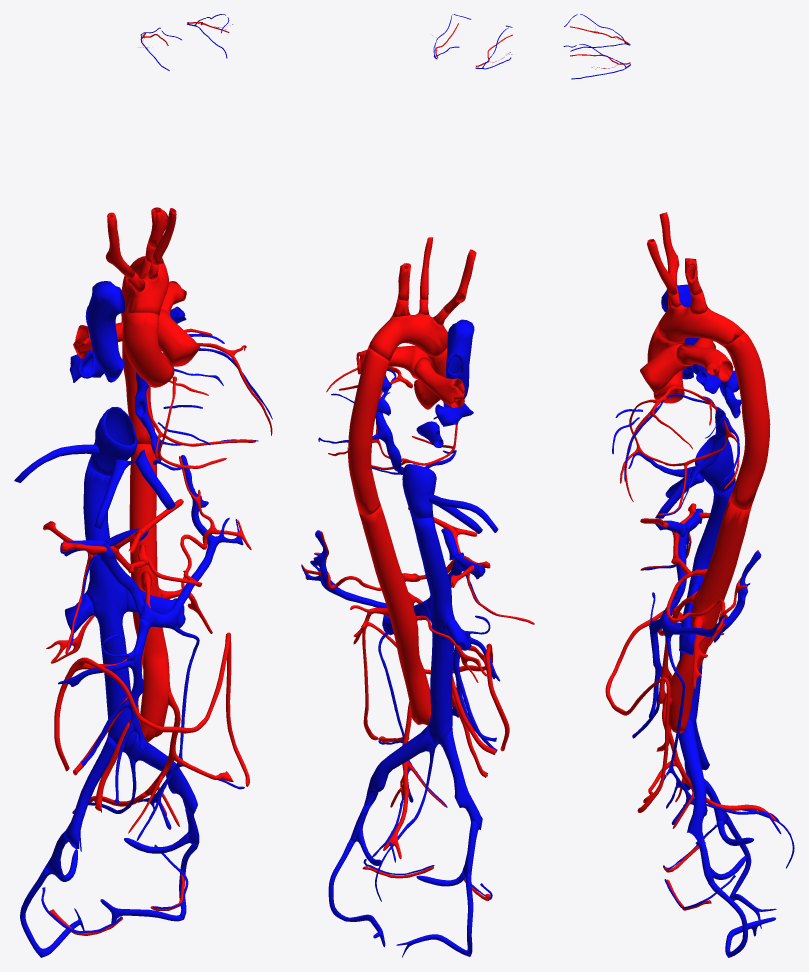
Rendered from 3d-vh-f-blood-vasculature_lod_20.glb.
3 renders of one model, left to right at view 1: azimuth 30°, elevation 25°; view 2: azimuth 150°, elevation 25°; view 3: azimuth 270°, elevation 25°, orthographic. The views are drawn at different scales.
Parts seen in each view (by area): view 1: VH_F_inferior_vena_cava_b, VH_F_descending_aorta_b, VH_F_superior_vena_cava, VH_F_marginal_artery_of_Drummond, VH_F_ascending_aorta, VH_F_inferior_vena_cava_a, VH_F_splenic_vein, VH_F_aortic_arch, VH_F_left_common_iliac_vein, VH_F_pulmonary_trunk, VH_F_right_common_iliac_vein, VH_F_descending_aorta_a (+14 smaller); view 2: VH_F_descending_aorta_b, VH_F_inferior_vena_cava_b, VH_F_descending_aorta_a, VH_F_aortic_arch, VH_F_superior_vena_cava, VH_F_inferior_vena_cava_a, VH_F_left_common_iliac_vein, VH_F_marginal_artery_of_Drummond, VH_F_pulmonary_artery_R, VH_F_right_common_iliac_vein, VH_F_splenic_vein, VH_F_ascending_aorta (+6 smaller); view 3: VH_F_descending_aorta_b, VH_F_descending_aorta_a, VH_F_aortic_arch, VH_F_inferior_vena_cava_b, VH_F_left_common_iliac_vein, VH_F_marginal_artery_of_Drummond, VH_F_splenic_vein, VH_F_inferior_vena_cava_a, VH_F_pulmonary_artery_L, VH_F_pulmonary_trunk, VH_F_ascending_aorta, VH_F_splenic_artery (+11 smaller).
Part boxes in pixels (box(x1,y1,x2,y2)): VH_F_inferior_vena_cava_b: box(83, 462, 136, 752); VH_F_descending_aorta_b: box(129, 444, 170, 742); VH_F_superior_vena_cava: box(85, 281, 125, 382); VH_F_marginal_artery_of_Drummond: box(54, 632, 249, 786); VH_F_ascending_aorta: box(122, 312, 174, 387); VH_F_inferior_vena_cava_a: box(88, 407, 137, 476); VH_F_splenic_vein: box(139, 455, 243, 629); VH_F_aortic_arch: box(125, 256, 168, 315); VH_F_left_common_iliac_vein: box(125, 733, 197, 815); VH_F_pulmonary_trunk: box(157, 309, 199, 366); VH_F_right_common_iliac_vein: box(65, 736, 116, 848); VH_F_descending_aorta_a: box(121, 276, 154, 444); VH_F_descending_aorta_b: box(359, 504, 430, 725); VH_F_inferior_vena_cava_b: box(412, 517, 454, 744); VH_F_descending_aorta_a: box(348, 347, 389, 515); VH_F_aortic_arch: box(368, 312, 447, 360); VH_F_superior_vena_cava: box(443, 319, 474, 406); VH_F_inferior_vena_cava_a: box(402, 464, 436, 518); VH_F_left_common_iliac_vein: box(364, 724, 438, 805); VH_F_marginal_artery_of_Drummond: box(362, 622, 509, 751); VH_F_pulmonary_artery_R: box(413, 357, 464, 407); VH_F_right_common_iliac_vein: box(441, 730, 482, 829); VH_F_splenic_vein: box(301, 530, 386, 607); VH_F_ascending_aorta: box(414, 347, 447, 409); VH_F_descending_aorta_b: box(668, 497, 751, 733); VH_F_descending_aorta_a: box(724, 332, 770, 509); VH_F_aortic_arch: box(658, 304, 744, 346); VH_F_inferior_vena_cava_b: box(679, 479, 735, 726); VH_F_left_common_iliac_vein: box(678, 718, 707, 843); VH_F_marginal_artery_of_Drummond: box(605, 610, 682, 812); VH_F_splenic_vein: box(660, 551, 761, 642); VH_F_inferior_vena_cava_a: box(695, 434, 735, 493); VH_F_pulmonary_artery_L: box(676, 344, 733, 382); VH_F_pulmonary_trunk: box(640, 344, 694, 394); VH_F_ascending_aorta: box(647, 324, 685, 403); VH_F_splenic_artery: box(666, 550, 758, 647).
Size of the model in its own units: 0.1927 by 0.7991 by 0.1849.
